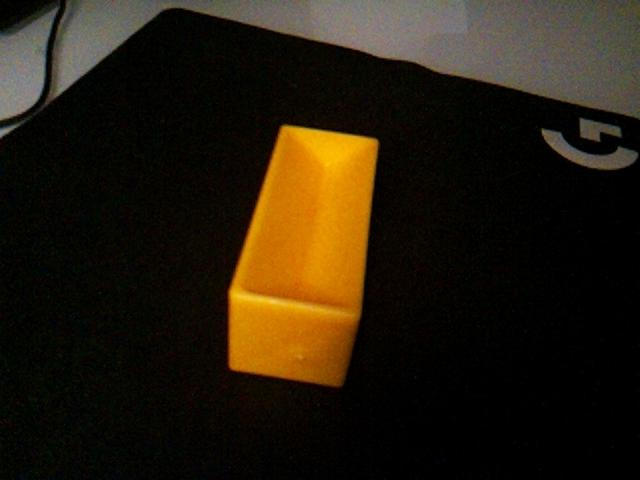yellow: (226, 123, 381, 389)
